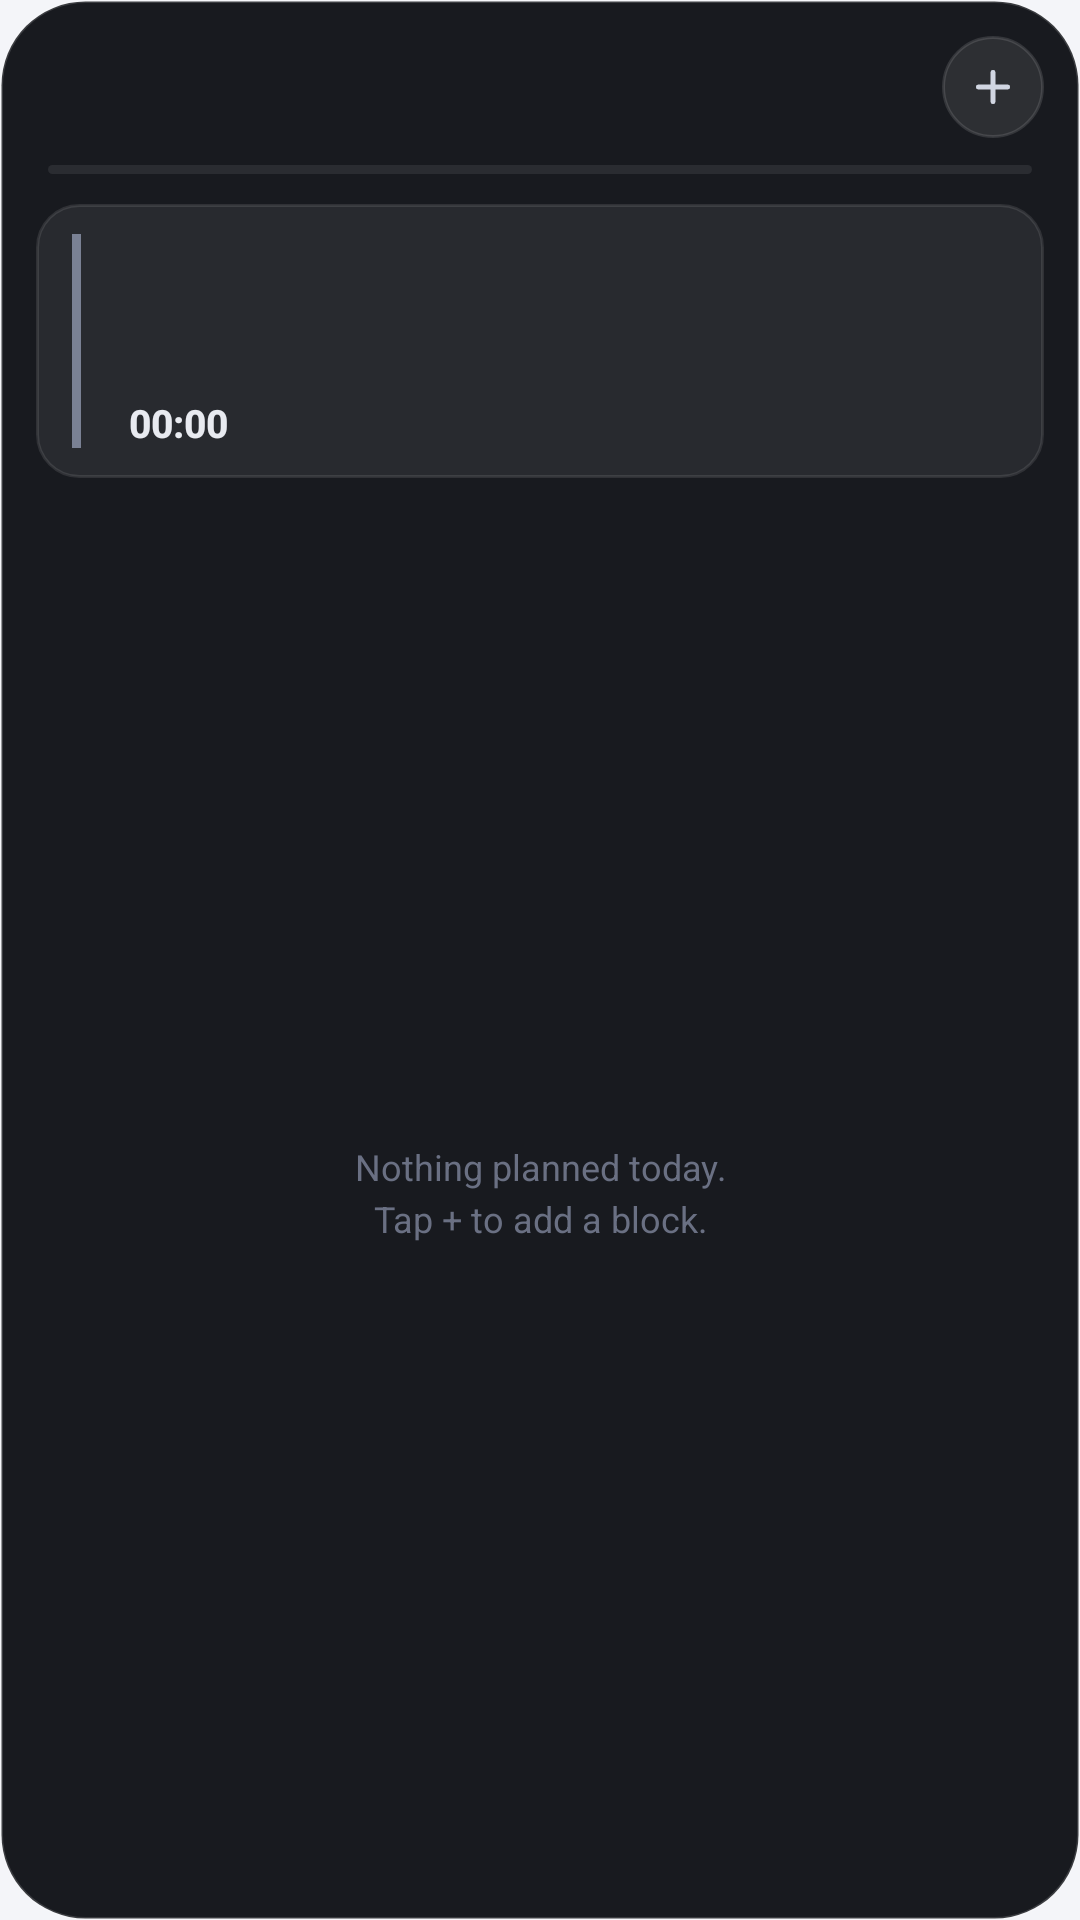

Icons on this 1080w x 1920h Android screen, each with its box as (x1, y1, x2, y2):
Add block: (942, 36, 1044, 138)
